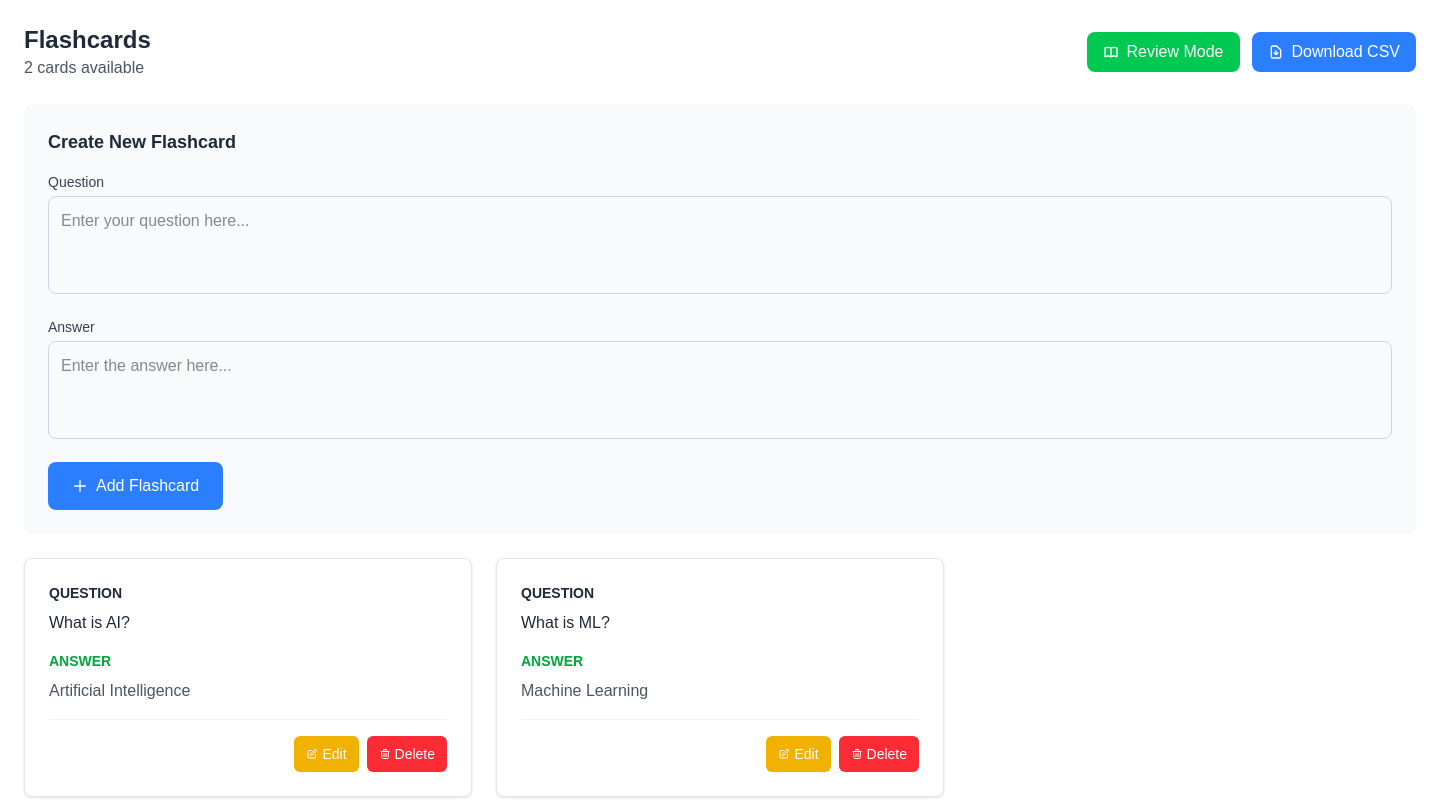
Test: FlashcardsTab Component › enters review mode correctly
Expected: the text "What is AI?" is shown, x1=49 y1=614 x2=130 y2=631
Click the button "Review Mode".
click(1163, 52)  # box x1=1087 y1=32 x2=1240 y2=72
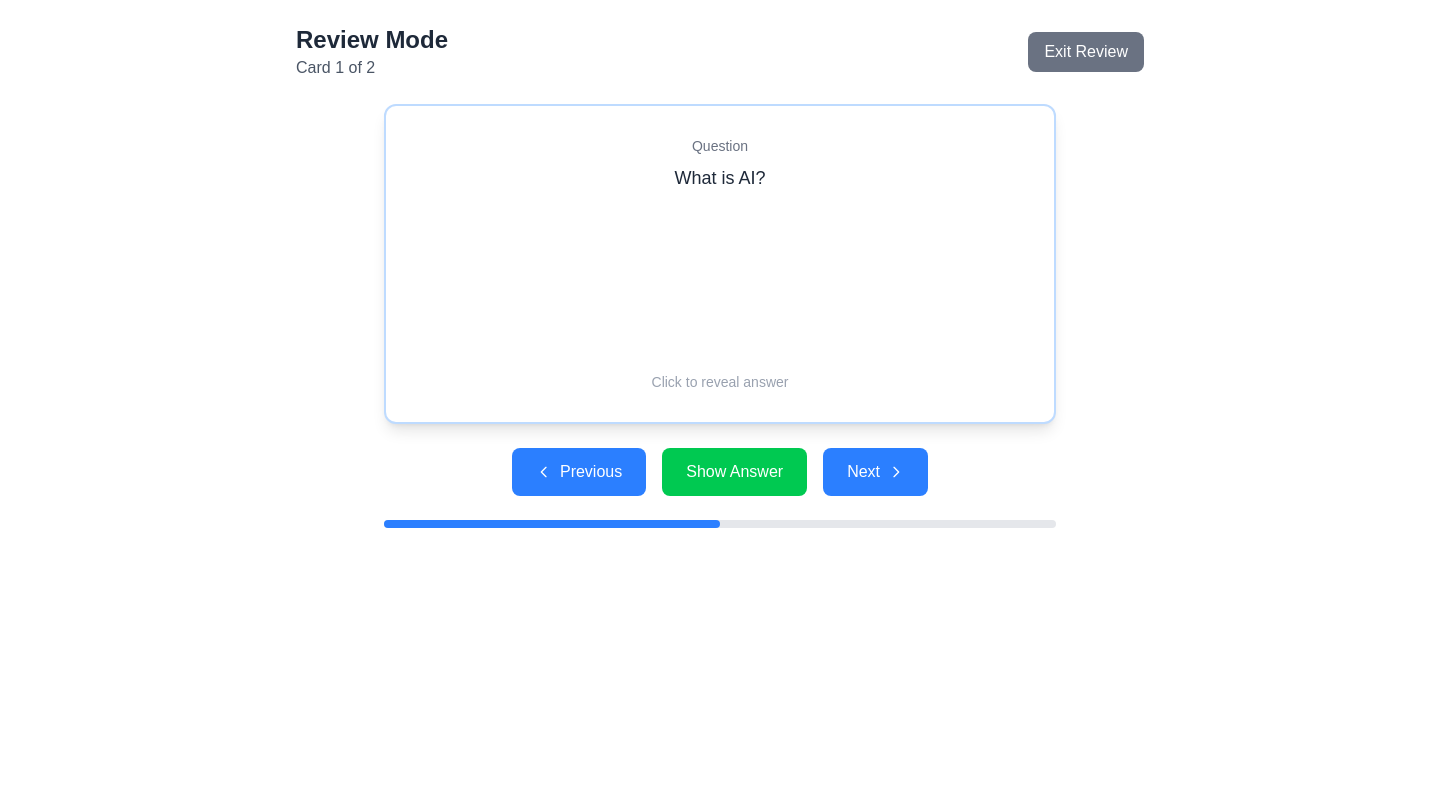
Expected: the heading "Review Mode" is shown, x1=296 y1=24 x2=448 y2=56
Expected: the text "Card 1 of 2" is shown, x1=296 y1=59 x2=375 y2=76
